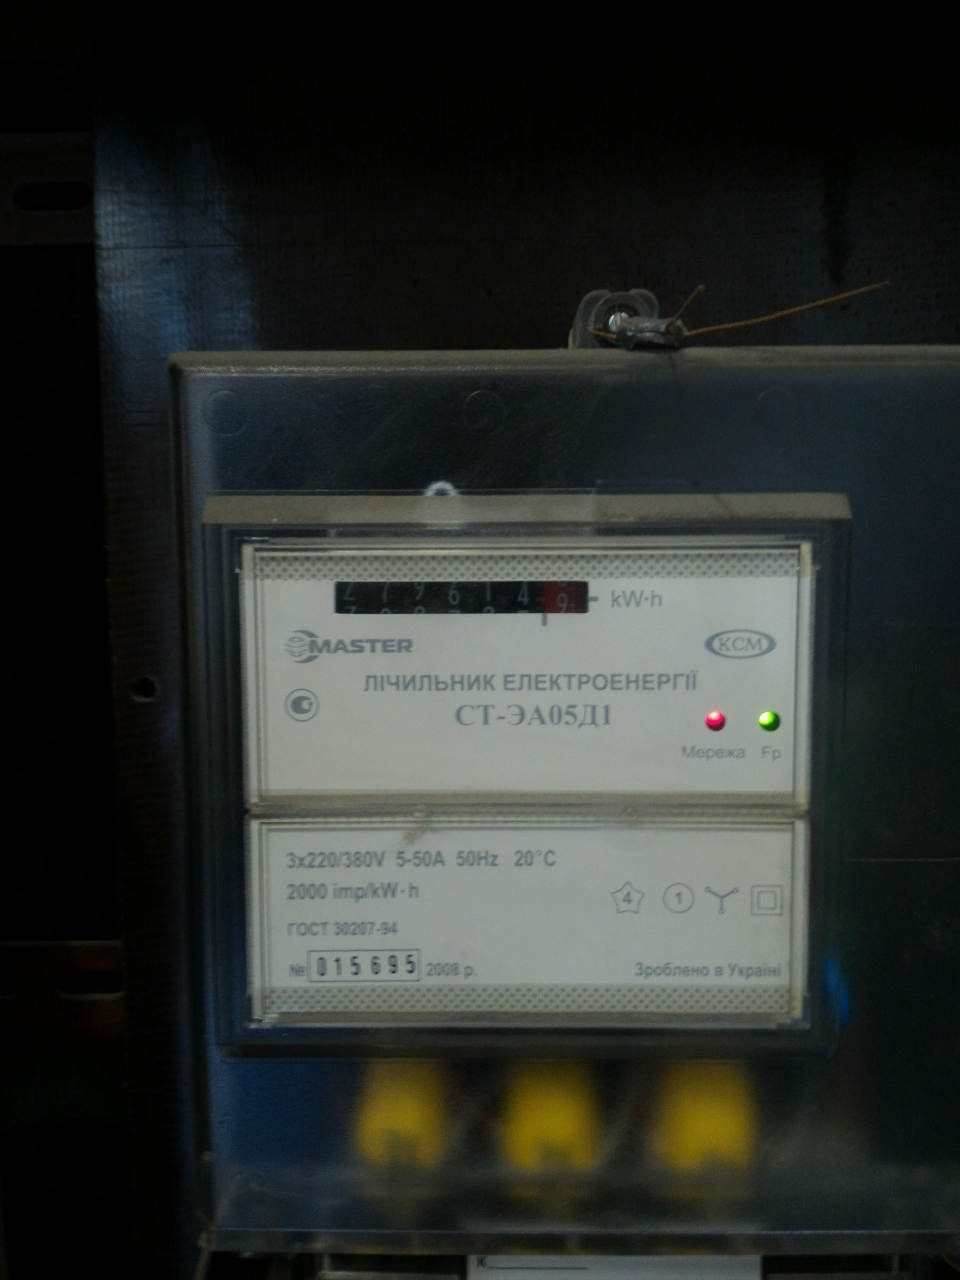1: (481, 581, 495, 603)
2: (341, 581, 358, 603)
4: (515, 581, 532, 606)
6: (446, 581, 462, 606)
7: (377, 581, 394, 604)
9: (554, 589, 570, 614), (411, 581, 427, 603)
screen: (326, 573, 597, 620)
